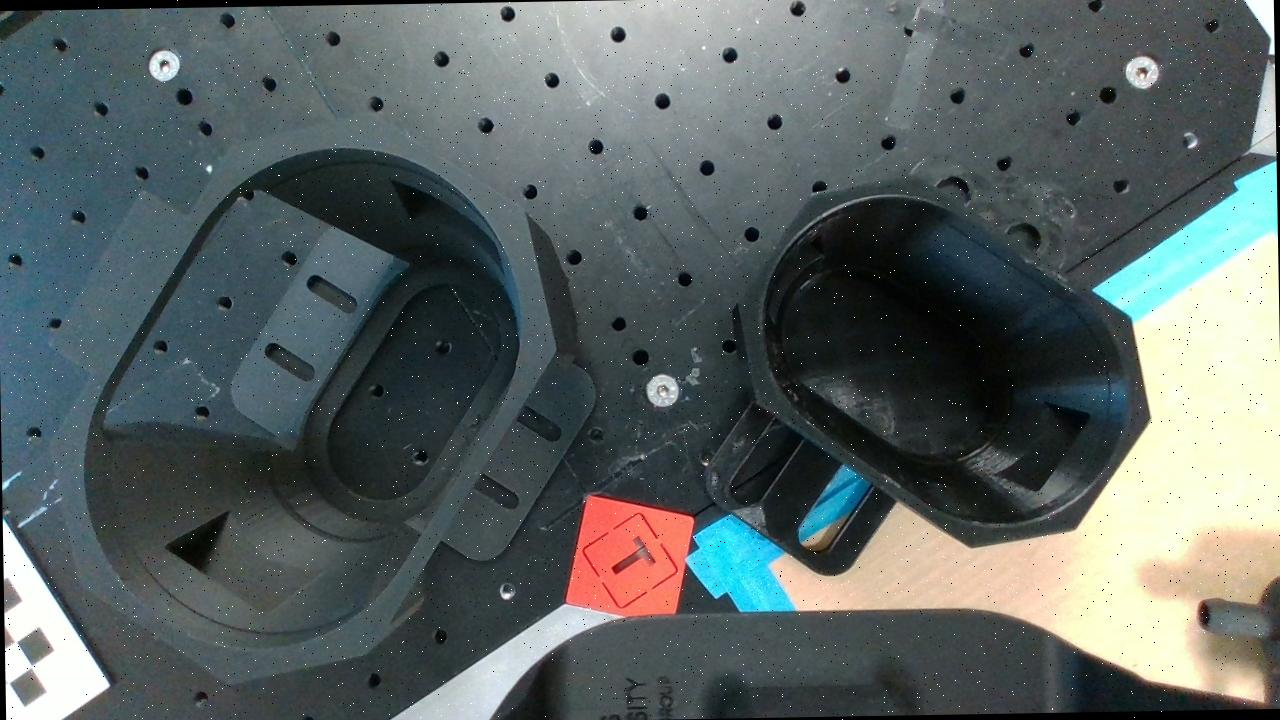big_interface: (43, 114, 564, 688)
small_interface: (734, 169, 1153, 552)
